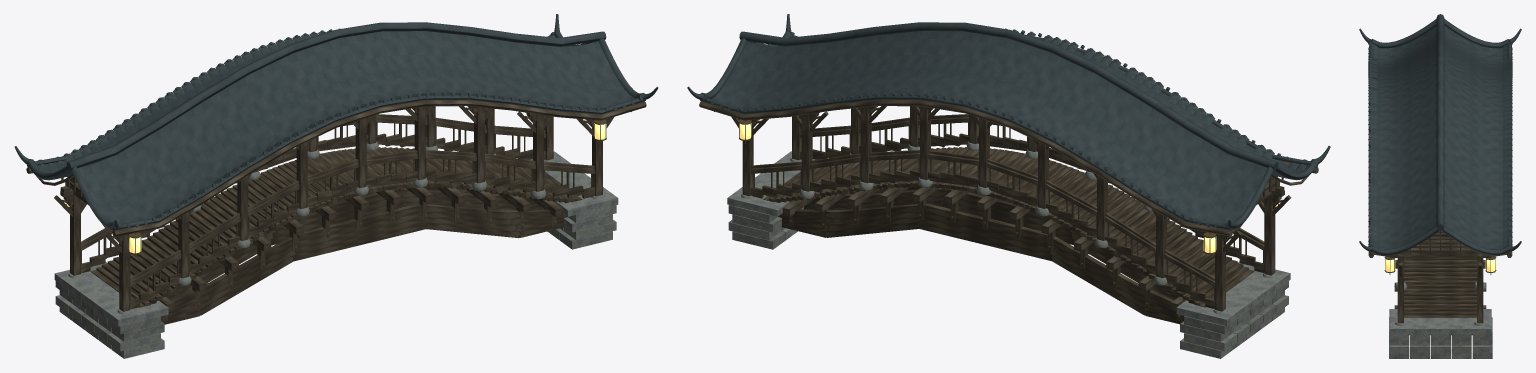
The model's file is bridge_lod0.glb.
3 renders of one model, left to right at view 1: azimuth 30°, elevation 25°; view 2: azimuth 150°, elevation 25°; view 3: azimuth 270°, elevation 25°, orthographic. The views are drawn at different scales.
Parts seen in each view (by area): view 1: bridge_L0__timber, bridge_L0__tile, bridge_L0__stone; view 2: bridge_L0__timber, bridge_L0__tile, bridge_L0__stone; view 3: bridge_L0__tile, bridge_L0__timber, bridge_L0__stone, bridge_L0__paper.
Part boxes in pixels (left/top/right/bottom): bridge_L0__timber: left=26, top=99, right=646, bottom=324; bridge_L0__tile: left=14, top=14, right=658, bottom=230; bridge_L0__stone: left=54, top=141, right=618, bottom=358; bridge_L0__timber: left=699, top=99, right=1318, bottom=324; bridge_L0__tile: left=687, top=14, right=1330, bottom=230; bridge_L0__stone: left=727, top=141, right=1290, bottom=358; bridge_L0__tile: left=1359, top=14, right=1521, bottom=255; bridge_L0__timber: left=1368, top=47, right=1512, bottom=335; bridge_L0__stone: left=1389, top=282, right=1492, bottom=358; bridge_L0__paper: left=1384, top=259, right=1496, bottom=271.
Size of the model in its own units: 14.02 by 6.07 by 4.52.
Materials: 6 (6 with a texture image).
